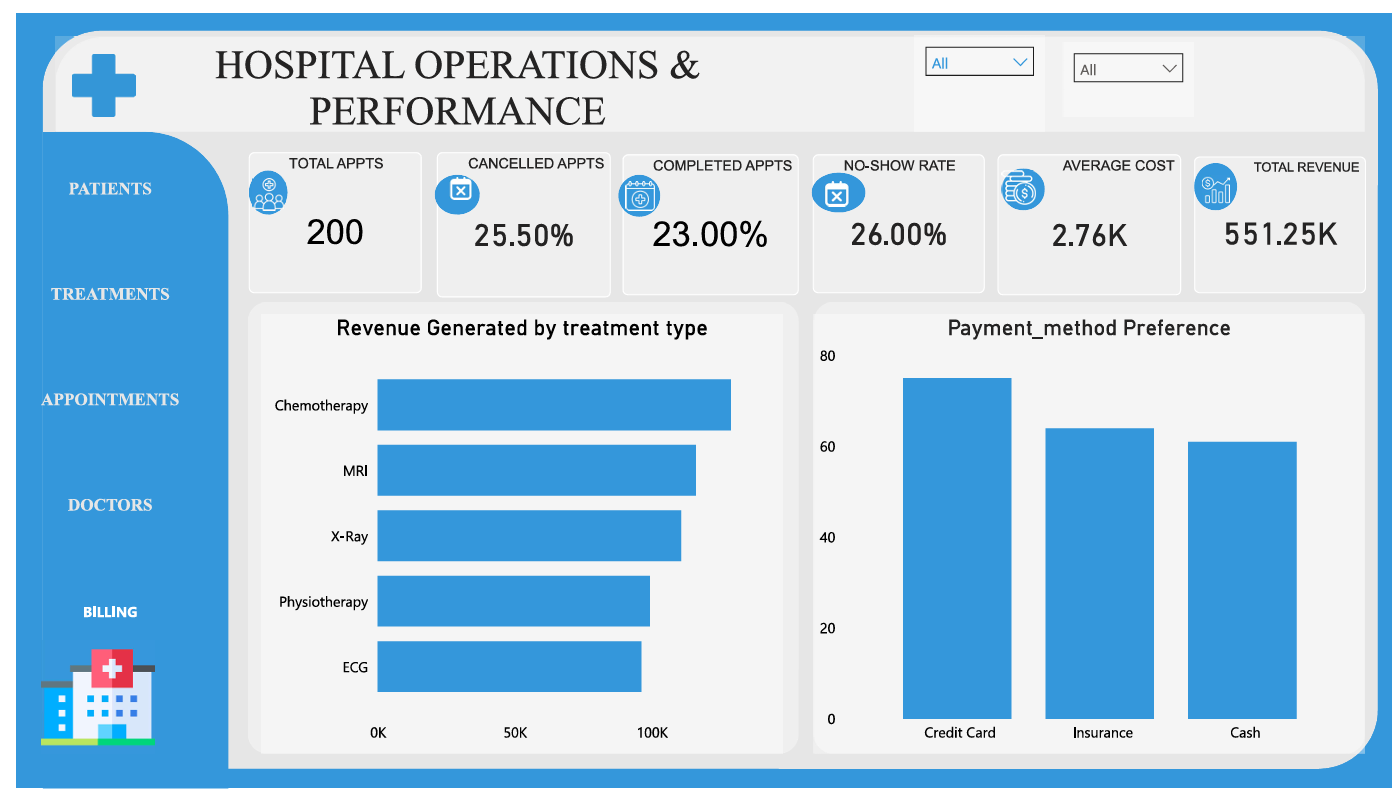

This screenshot's page, from the dashboard's own definition file:
{"tool":"powerbi","page":{"name":"BILLING","canvas":[1280,720],"ordinal":4},"visuals":[{"type":"shape","box":[24.1,15.5,1243.1,686.2],"z":0},{"type":"shape","box":[24.1,110.3,172.4,610.3],"z":1000},{"type":"pageNavigator","box":[0,117.2,174.1,486.2],"z":2000},{"type":"shape","box":[36.2,22.4,1219,87.9],"z":3000},{"type":"textbox","box":[107.8,21.2,604.7,96.3],"z":4000},{"type":"image","box":[51.7,21.7,58.3,90],"z":5000},{"type":"image","box":[0,583.3,150,105],"z":6000},{"type":"shape","box":[215,268.3,513.3,420],"z":7000},{"type":"clusteredBarChart","title":"Revenue  Generated by treatment type","fields":{"Category":["vw_Treatments.treatment_type"],"Y":["Sum(vw_Treatments.cost)"]},"box":[228.3,280,485,408.3],"z":8000},{"type":"shape","box":[741.7,268.3,513.3,420],"z":9000},{"type":"clusteredColumnChart","title":"Payment_method Preference","fields":{"Category":["vw_Billing.payment_method"],"Y":["CountNonNull(vw_Billing.payment_method)"]},"box":[741.7,280,513.3,408.3],"z":10000},{"type":"card","title":"TOTAL APPTS","fields":{"Values":["CountNonNull(vw_Fact_Appointments.appointment_id)"]},"box":[215.7,129,161.8,131],"z":11000},{"type":"card","title":"CANCELLED APPTS","fields":{"Values":["vw_Fact_Appointments.Cancellation Rate"]},"box":[390.9,129,161.8,134.8],"z":12000},{"type":"card","title":"COMPLETED APPTS ","fields":{"Values":["vw_Fact_Appointments.Completion Rate"]},"box":[564.3,131,163.7,131],"z":13000},{"type":"card","title":"NO-SHOW RATE","fields":{"Values":["vw_Fact_Appointments.No-Show Rate"]},"box":[741.4,131,159.8,129],"z":14000},{"type":"card","title":"AVERAGE COST","fields":{"Values":["Avg(vw_Billing.BillingAmount)"]},"box":[912.8,131,171.4,131],"z":15000},{"type":"card","title":"TOTAL REVENUE  ","fields":{"Values":["Sum(vw_Billing.BillingAmount)"]},"box":[1095.8,132.9,159.8,127.1],"z":16000},{"type":"shape","box":[215.7,146.4,36.6,40.4],"z":17000},{"type":"image","box":[219.5,152.1,30.8,30.8],"z":18000},{"type":"shape","box":[389,150.2,42.4,36.6],"z":19000},{"type":"image","box":[394.8,152.1,36.6,21.2],"z":20000},{"type":"shape","box":[560.4,150.2,38.5,38.5],"z":21000},{"type":"image","box":[562.3,156,36.6,27],"z":22000},{"type":"shape","box":[739.5,148.3,50.1,36.6],"z":23000},{"type":"image","box":[751.1,156,25,23.1],"z":24000},{"type":"shape","box":[916.7,144.4,40.4,38.5],"z":25000},{"type":"image","box":[916.7,144.4,32.7,34.7],"z":26000},{"type":"shape","box":[1095.8,138.7,40.4,44.3],"z":27000},{"type":"image","box":[1103.5,150.2,25,27],"z":28000},{"type":"slicer","fields":{"Values":["vw_Fact_Appointments.AppointmentStatus"]},"box":[835.8,21.2,121.3,88.6],"z":29000},{"type":"slicer","fields":{"Values":["vw_Fact_Appointments.DayOfWeek"]},"box":[974.5,27,121.3,69.3],"z":30001}]}

Visuals, with their boxes in screenshot pixels (x1, y1, x2, y2), scaled from the page's 1280x720 canvas onto the 1393x795 screenshot:
shape: BBox(26, 17, 1379, 775)
shape: BBox(26, 122, 214, 794)
pageNavigator: BBox(0, 129, 189, 666)
shape: BBox(39, 25, 1366, 122)
textbox: BBox(117, 23, 775, 130)
image: BBox(56, 24, 120, 123)
image: BBox(0, 644, 163, 760)
shape: BBox(234, 296, 793, 760)
"Revenue  Generated by treatment type" clusteredBarChart: BBox(248, 309, 776, 760)
shape: BBox(807, 296, 1366, 760)
"Payment_method Preference" clusteredColumnChart: BBox(807, 309, 1366, 760)
"TOTAL APPTS" card: BBox(235, 142, 411, 287)
"CANCELLED APPTS" card: BBox(425, 142, 601, 291)
"COMPLETED APPTS " card: BBox(614, 145, 792, 289)
"NO-SHOW RATE" card: BBox(807, 145, 981, 287)
"AVERAGE COST" card: BBox(993, 145, 1180, 289)
"TOTAL REVENUE  " card: BBox(1193, 147, 1366, 287)
shape: BBox(235, 162, 275, 206)
image: BBox(239, 168, 272, 202)
shape: BBox(423, 166, 469, 206)
image: BBox(430, 168, 469, 191)
shape: BBox(610, 166, 652, 208)
image: BBox(612, 172, 652, 202)
shape: BBox(805, 164, 859, 204)
image: BBox(817, 172, 845, 198)
shape: BBox(998, 159, 1042, 202)
image: BBox(998, 159, 1033, 198)
shape: BBox(1193, 153, 1237, 202)
image: BBox(1201, 166, 1228, 196)
slicer - vw_Fact_Appointments.AppointmentStatus: BBox(910, 23, 1042, 121)
slicer - vw_Fact_Appointments.DayOfWeek: BBox(1061, 30, 1193, 106)
